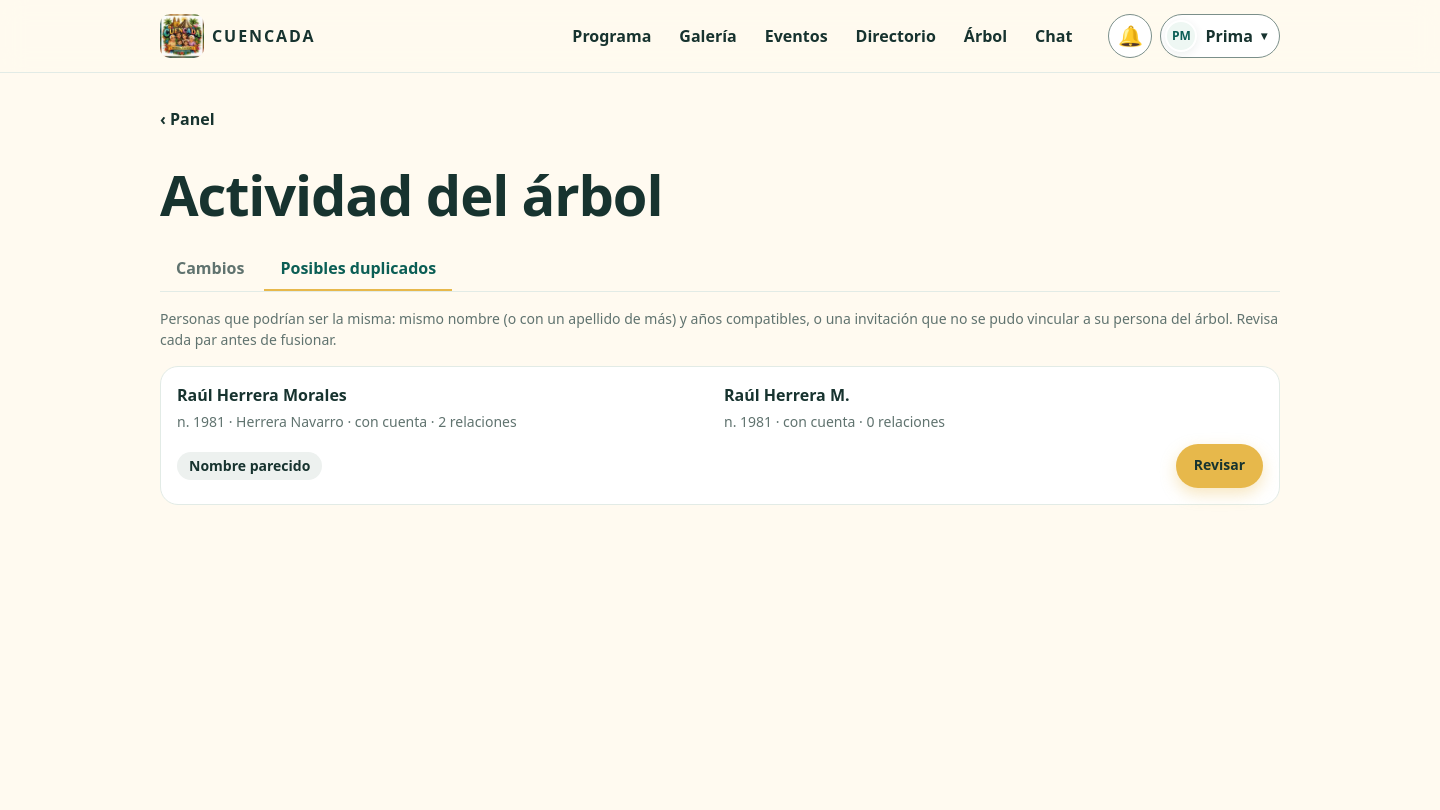
Actividad del árbol · Posibles duplicados › explains blockers and conflicts, and never offers «Fusionar» for them
The image size is (1440, 810).
Click the button with aria-label "Revisar:": click(1219, 466) [1176, 444, 1263, 488]
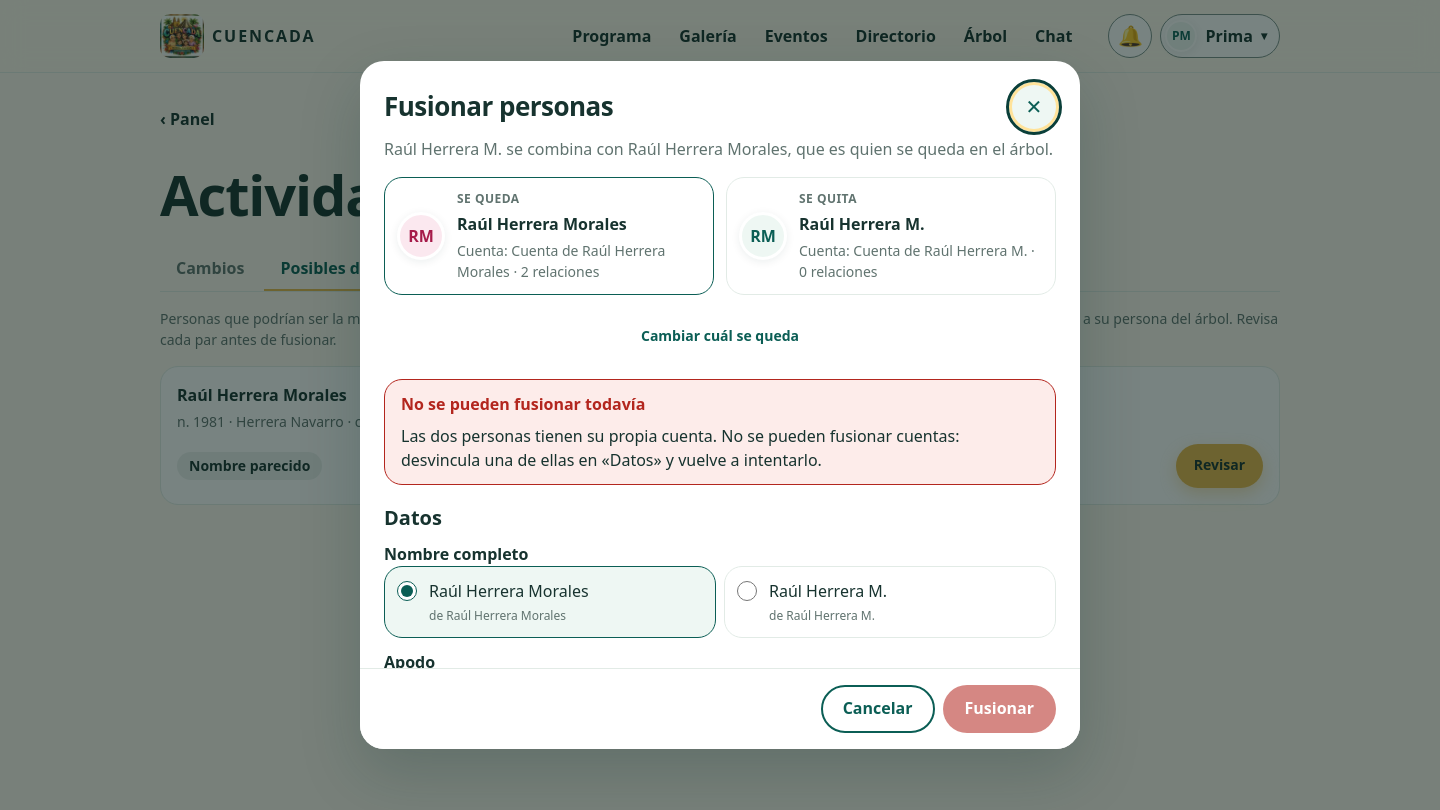
expect the text "Las dos personas tienen su propia cuenta" is shown: met, box [401, 425, 959, 471]
expect the button "Fusionar" is disabled: met, box [942, 685, 1056, 733]
